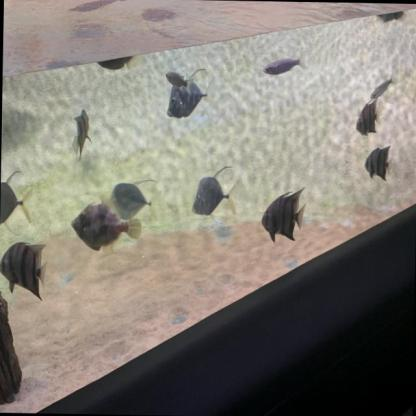fish: (70, 200, 143, 254), (0, 238, 50, 302), (260, 184, 308, 244), (190, 164, 242, 218), (165, 65, 215, 121), (0, 168, 36, 238), (108, 176, 157, 222), (70, 107, 92, 161), (363, 144, 394, 182), (262, 52, 309, 77), (355, 97, 383, 137), (96, 52, 135, 72), (370, 73, 394, 104), (164, 68, 190, 92), (377, 8, 404, 25)
